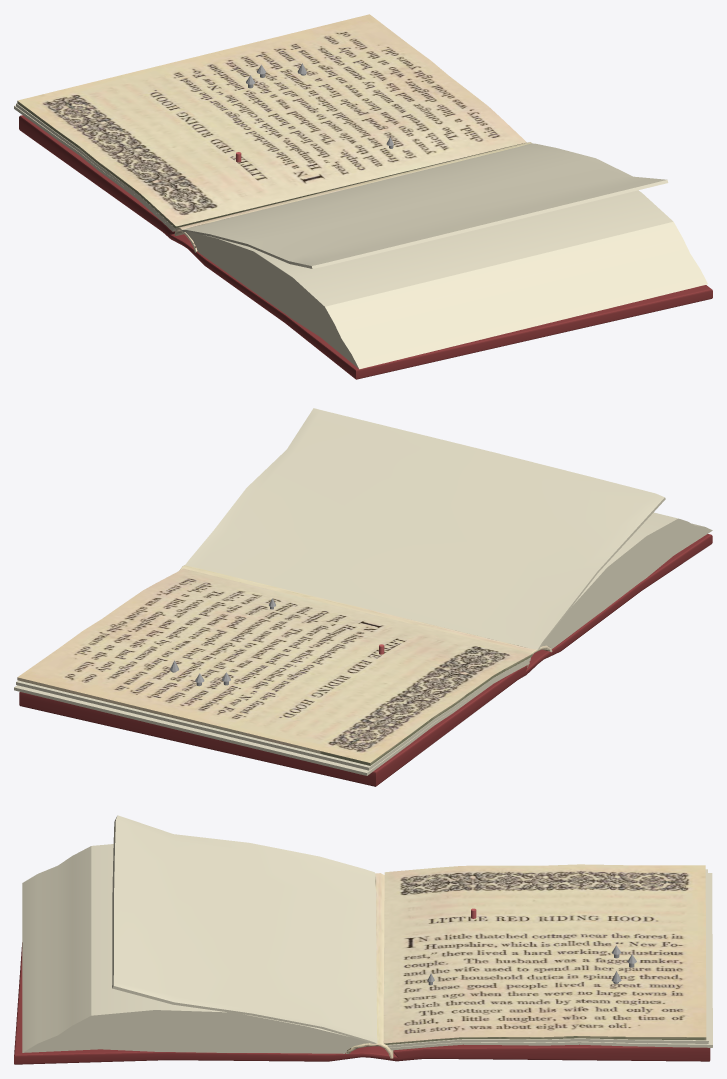
File: LevelLayout.fbx
3 renders of one model, top to bottom at view 1: azimuth 30°, elevation 25°; view 2: azimuth 150°, elevation 25°; view 3: azimuth 270°, elevation 25°, orthographic.
Parts seen in each view (by area): view 1: polySurface66, polySurface65, polySurface64, polySurface62, polySurface63, polySurface67, polySurface68; view 2: polySurface64, polySurface66, polySurface62, polySurface65, polySurface67, polySurface68, polySurface63; view 3: polySurface66, polySurface64, polySurface65, polySurface62, polySurface67, polySurface68, polySurface63.
Boxes of the visible parts, x1,y1,x2,y2 form: polySurface66: (17,14,526,228); polySurface65: (186,190,707,369); polySurface64: (182,143,668,268); polySurface62: (19,115,712,379); polySurface63: (174,142,531,252); polySurface67: (14,105,175,231); polySurface68: (16,103,513,229); polySurface64: (185,408,665,649); polySurface66: (17,568,532,765); polySurface62: (19,534,712,786); polySurface65: (541,512,712,648); polySurface67: (14,661,529,775); polySurface68: (16,657,530,770); polySurface63: (179,565,552,667); polySurface66: (383,864,706,1044); polySurface64: (112,815,377,1043); polySurface65: (22,844,369,1053); polySurface62: (14,942,710,1064); polySurface67: (389,873,712,1050); polySurface68: (387,869,708,1047); polySurface63: (345,873,393,1058).
Size of the model in its own units: 5.64 by 1.24 by 9.63.
5 materials, 1 textured.
